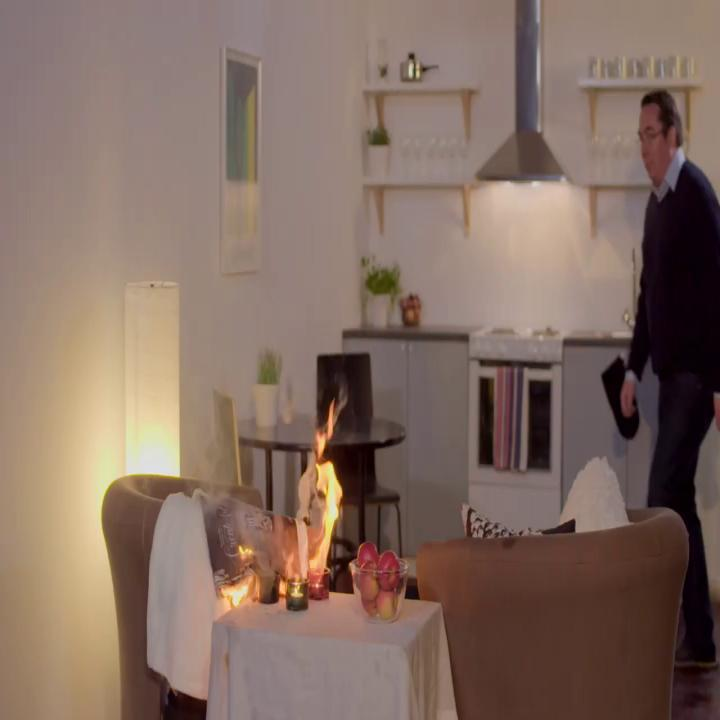fire: (307, 397, 345, 571)
